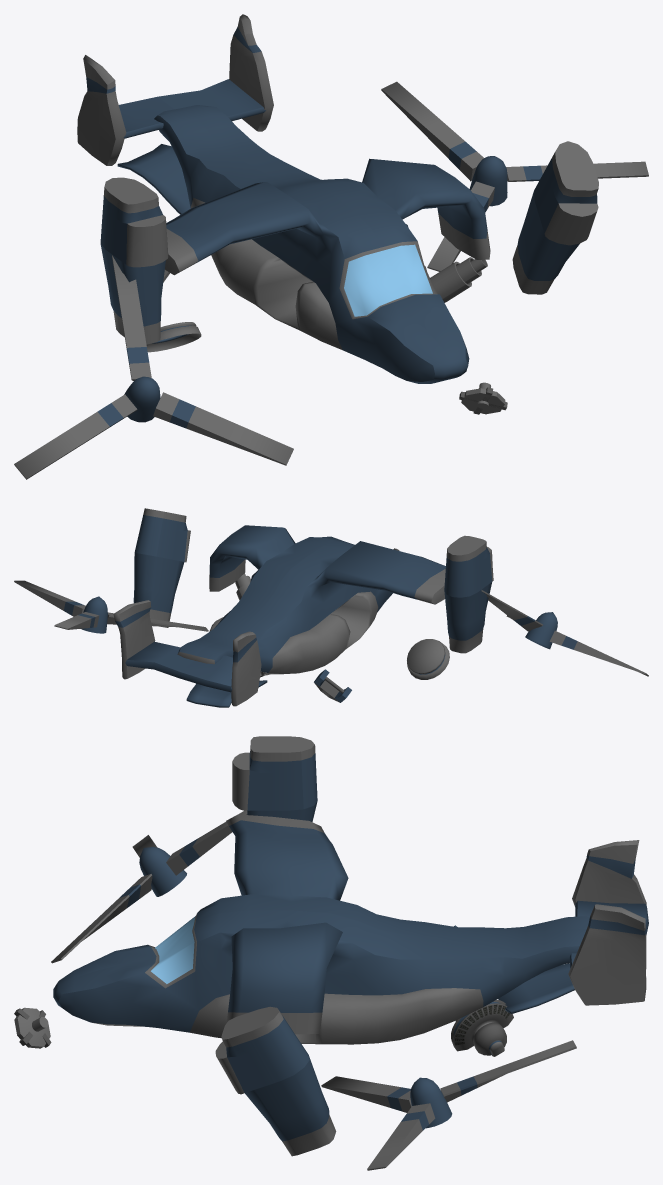
The model's file is broken_aircraft.fbx.
3 renders of one model, top to bottom at view 1: azimuth 30°, elevation 25°; view 2: azimuth 150°, elevation 25°; view 3: azimuth 270°, elevation 25°, orthographic. The views are drawn at different scales.
Visible parts, largest first — view 1: Aircraft; view 2: Aircraft; view 3: Aircraft.
Boxes of the visible parts, <box> form: Aircraft: <box>14,14,648,479</box>; Aircraft: <box>14,508,648,707</box>; Aircraft: <box>14,736,648,1170</box>.
Bounding box in the file's own units: 4127 × 1100 × 3050.
